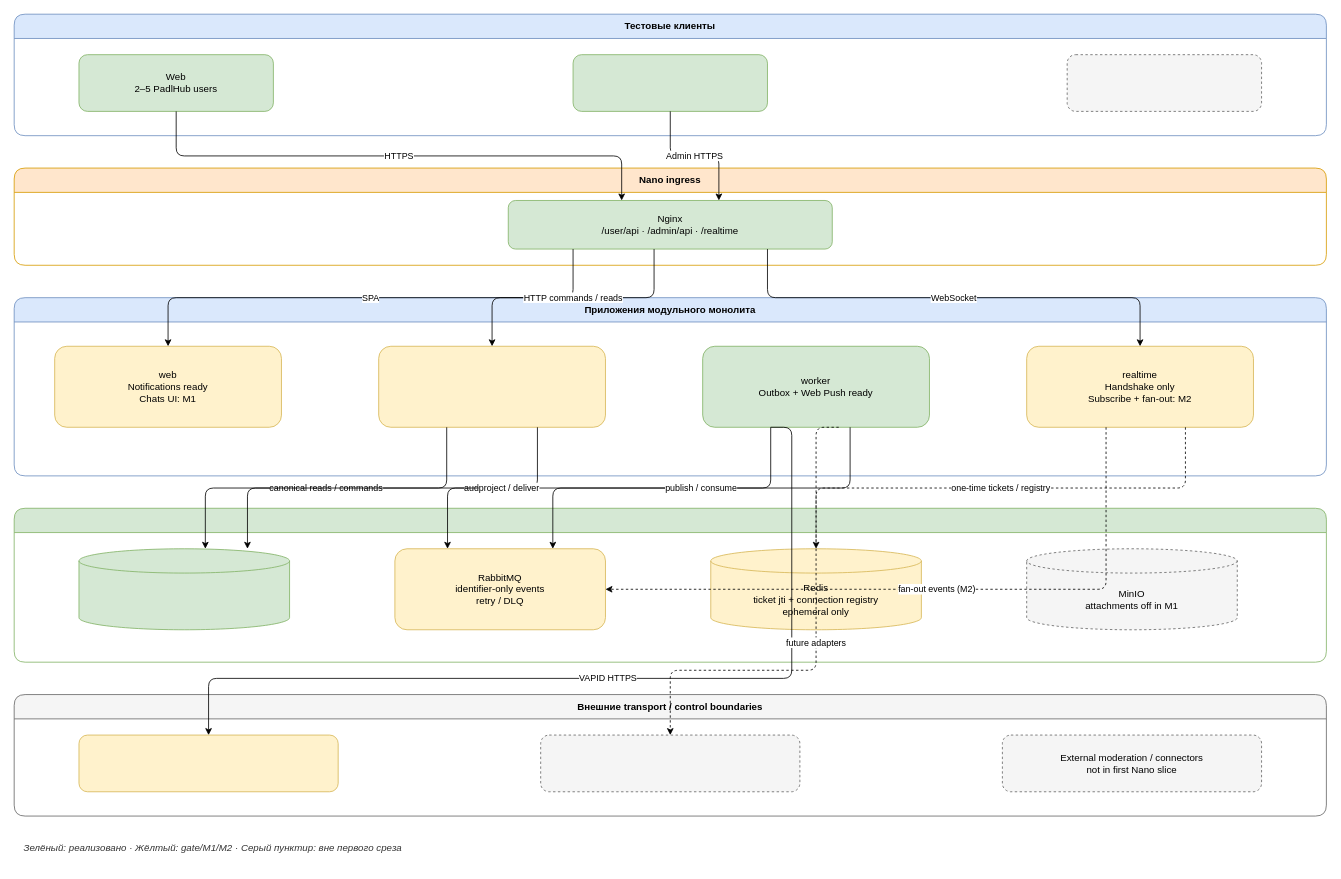
Some shapes in this 1341 by 879 pixel diagram are drawn without their labels. The shapes that lost their labels are listed below. From the top down, each one's box as (x1, y1, x2, y2) in pixels, then its label:
(572, 54, 767, 111): ЦУП operator phub-admin
(1066, 54, 1262, 111): iOS / Android APNs, FCM off
(378, 345, 605, 427): api Notifications ready Chat HTTP + tickets: M1/M2
(78, 548, 290, 630): PostgreSQL source of truth RLS + FORCE RLS
(13, 507, 1326, 662): Данные и транспорт
(78, 734, 338, 792): Web Push provider sandbox gate
(540, 734, 800, 792): APNs / FCM not implemented · off
